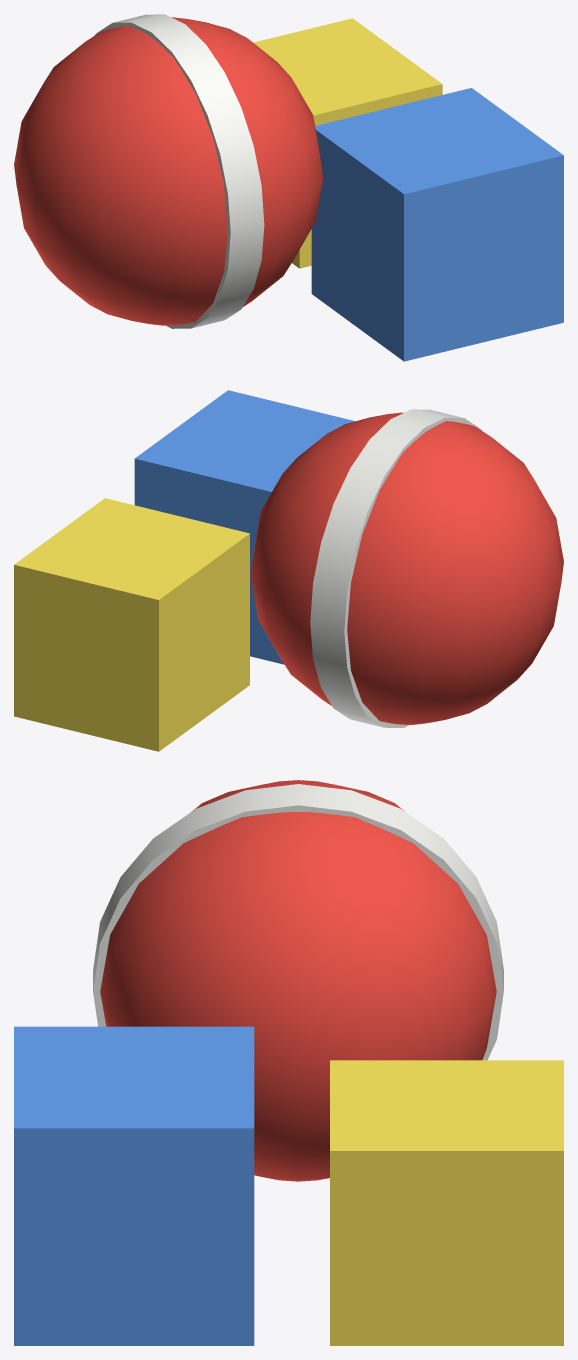
File: Small_Cartoon.fbx
The picture shows the model from 3 angles, top to bottom: view 1: azimuth 30°, elevation 25°; view 2: azimuth 150°, elevation 25°; view 3: azimuth 270°, elevation 25°; orthographic projection. The views are drawn at different scales.
Visible parts, largest first — view 1: Small_Cartoon; view 2: Small_Cartoon; view 3: Small_Cartoon.
Boxes of the visible parts, left/top/right/bottom form: Small_Cartoon: left=14, top=14, right=563, bottom=361; Small_Cartoon: left=14, top=390, right=563, bottom=751; Small_Cartoon: left=14, top=780, right=563, bottom=1345.
Size of the model in its own units: 1 by 0.65 by 0.87.
